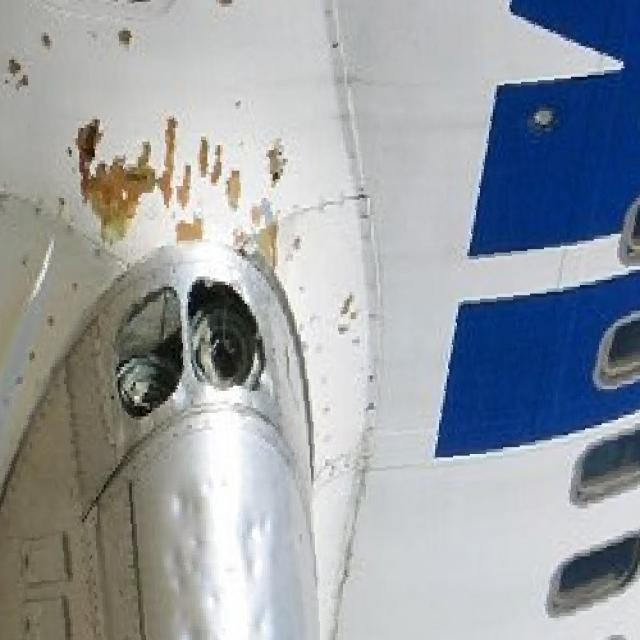dent: (156, 476, 268, 640)
